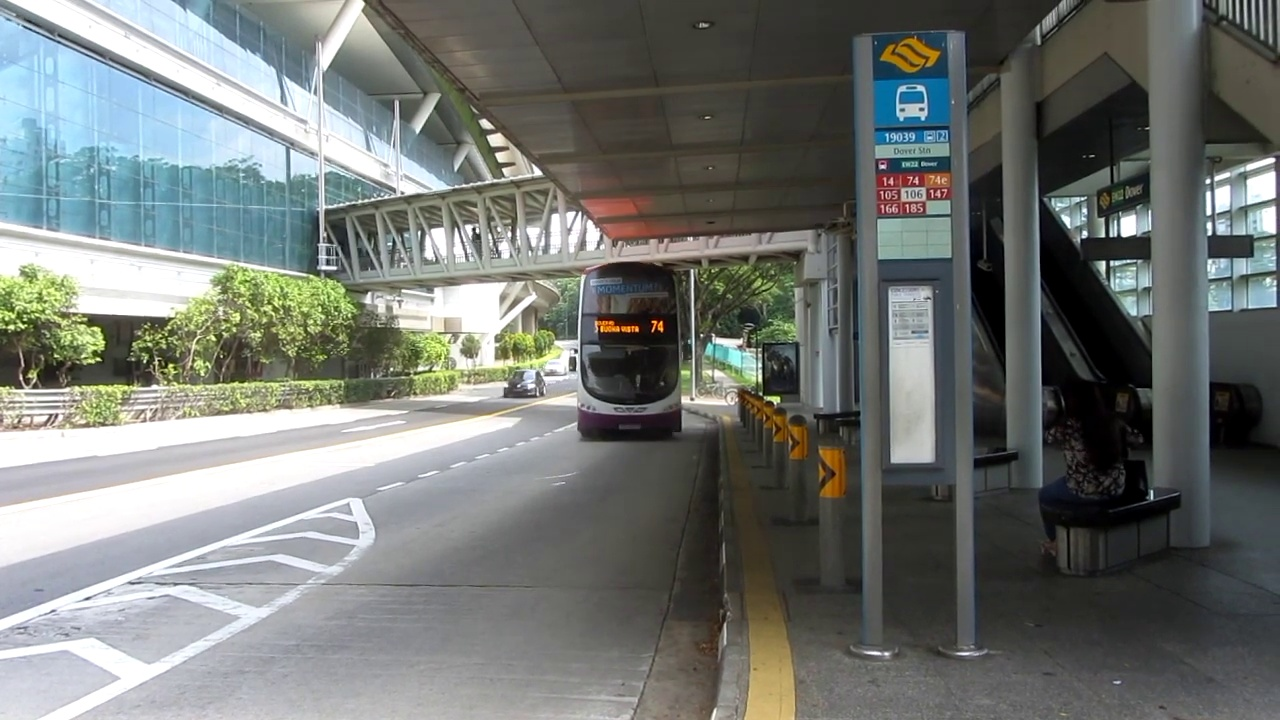bus panel: (592, 319, 666, 336)
